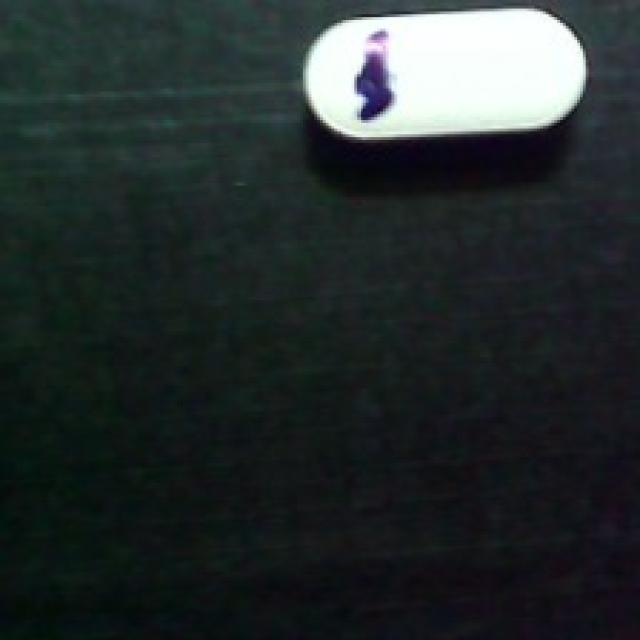defected: (289, 0, 600, 143)
